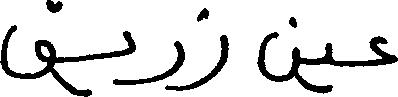X: (0, 0, 55, 83), (186, 3, 227, 94), (256, 12, 298, 86), (151, 36, 184, 95), (369, 31, 397, 70), (123, 26, 134, 89), (324, 38, 333, 96)
